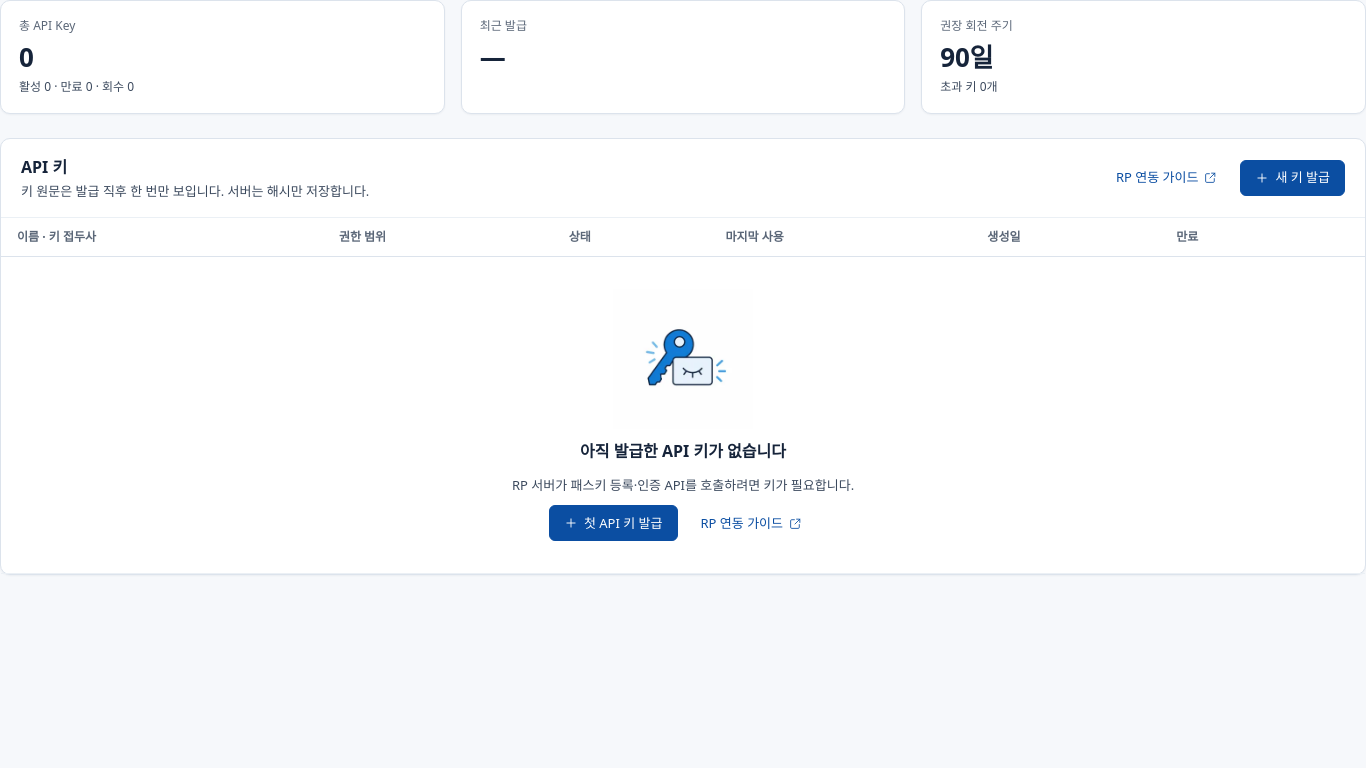
Test: ApiKeysTab V2 › 발급 버튼 연타는 키를 한 번만 발급한다
This screenshot has width=1366, height=768.
Click the button "새 키 발급".
click(1293, 178)  # box [1240,160,1345,196]
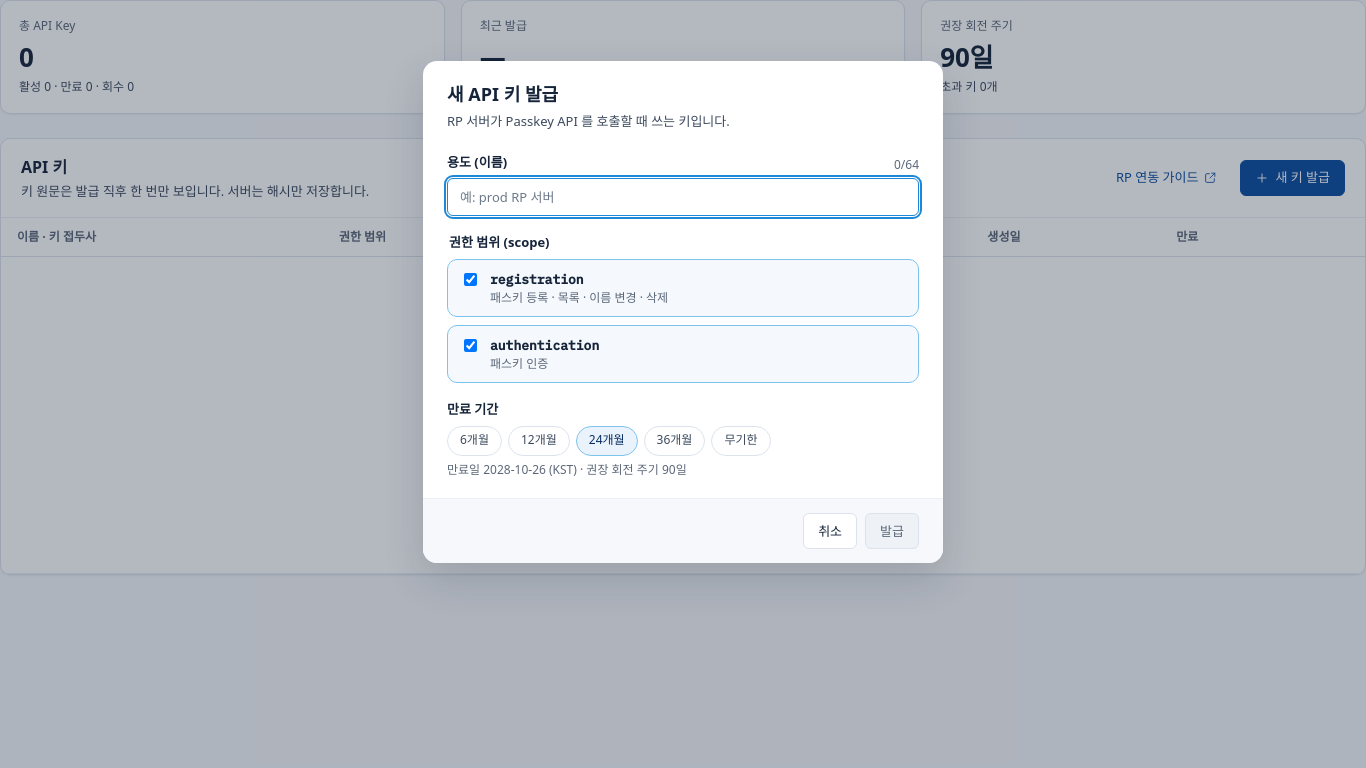
Type "staging" into the field labelled "용도 (이름)".
click(683, 197); type("staging")  # box [447,178,919,216]
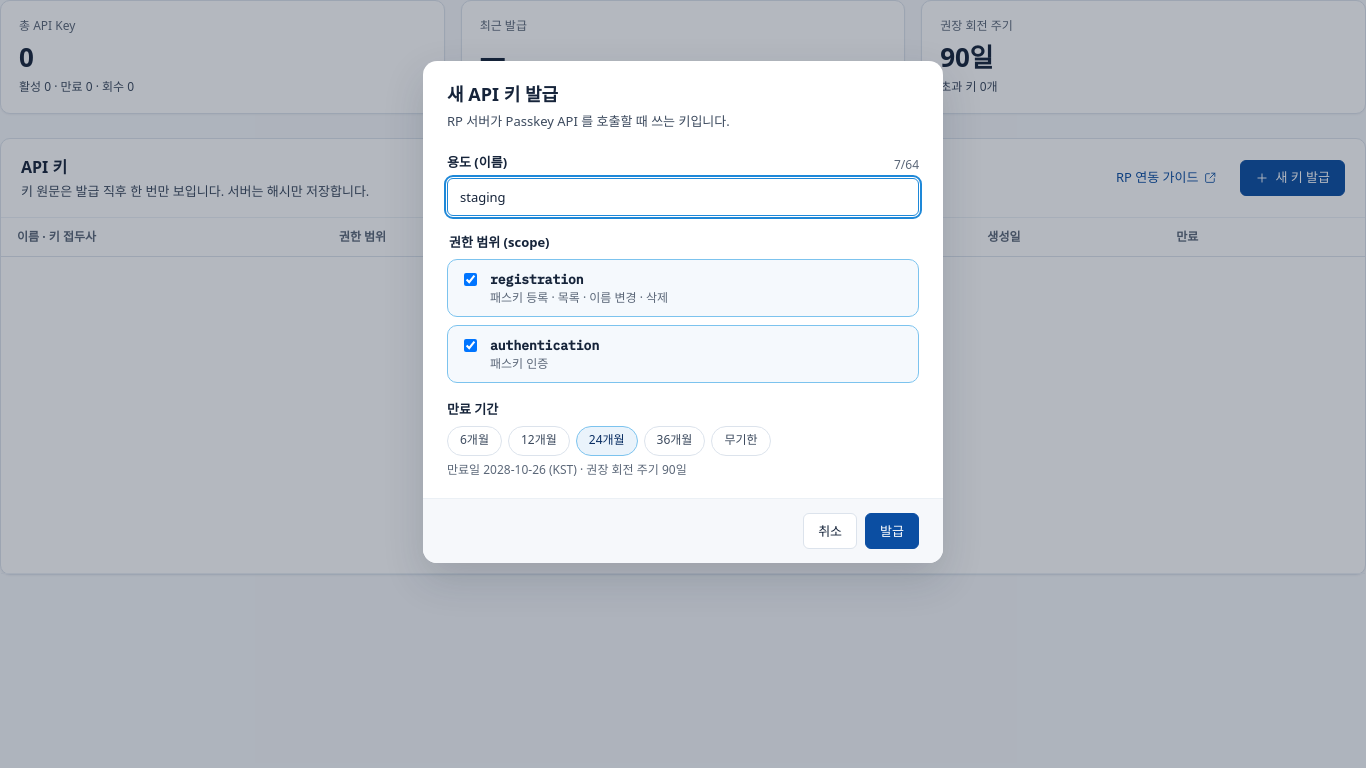
Click the button "발급".
click(892, 531)  # box [865,513,919,549]
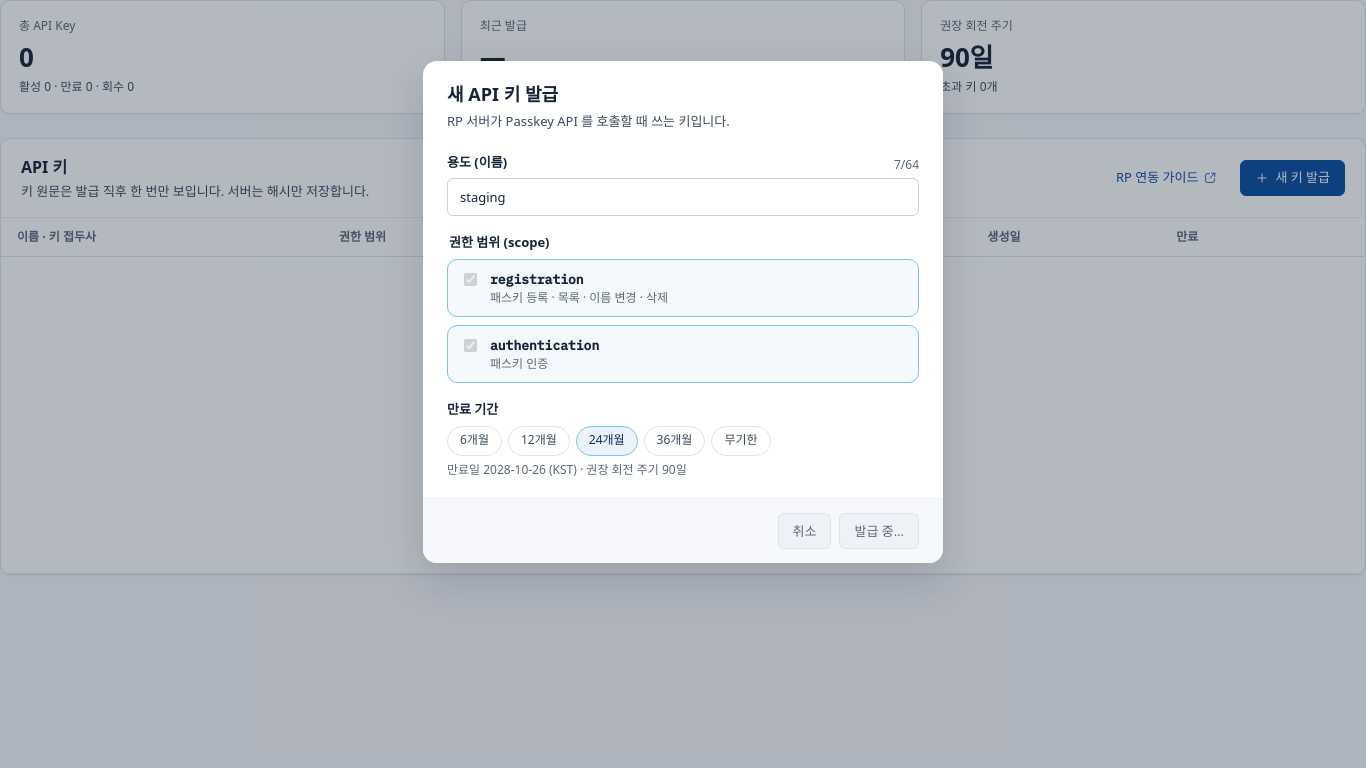
Click the button "발급 중…".
click(879, 531)  # box [840,513,919,549]
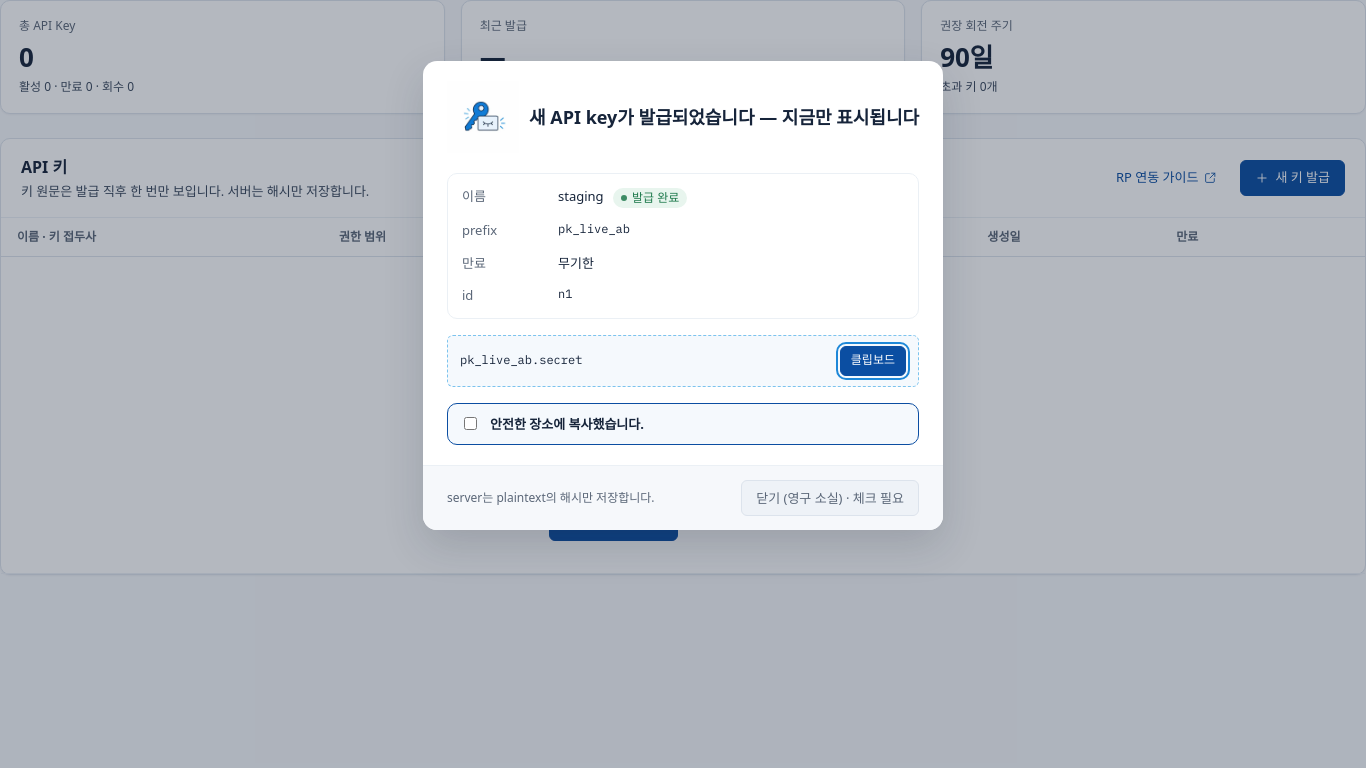
Expected: the dialog "새 API key가 발급되었습니다" is shown, [423,61,943,530]
